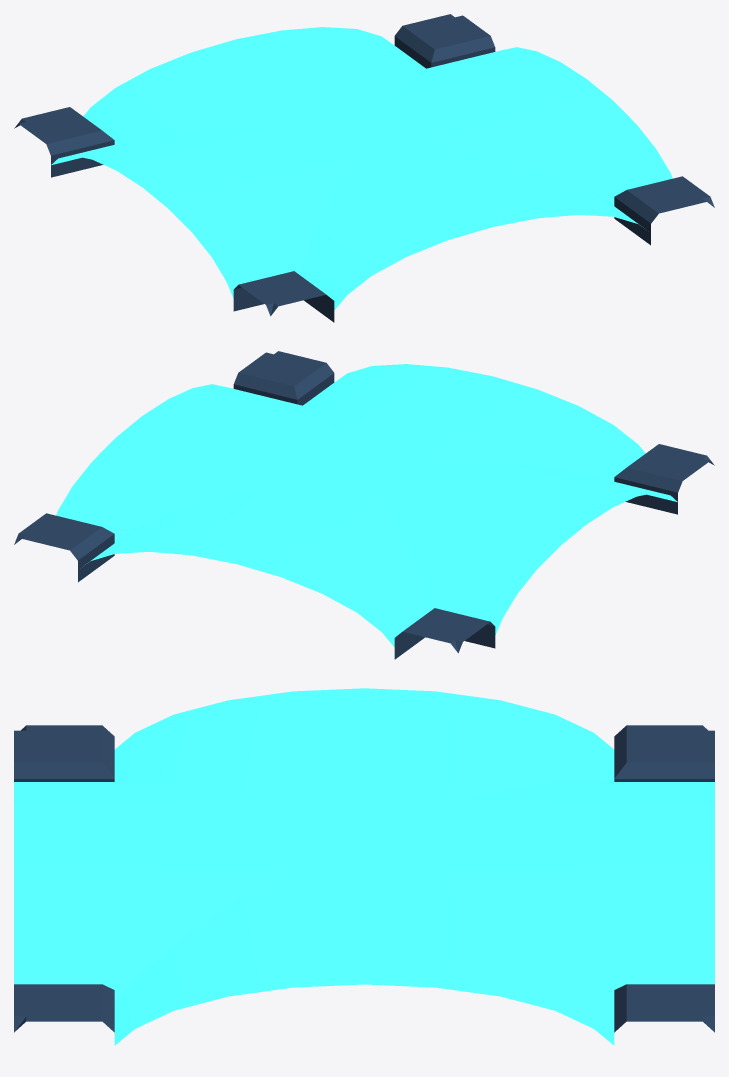
Rendered from Light_Trim_01_SquareShortCrossX.fbx.
3 views of the same model, one above another, from view 1: azimuth 30°, elevation 25°; view 2: azimuth 150°, elevation 25°; view 3: azimuth 270°, elevation 25° (orthographic). The views are drawn at different scales.
Visible parts, largest first — view 1: Light_Trim_01_SquareShortCrossX.001; view 2: Light_Trim_01_SquareShortCrossX.001; view 3: Light_Trim_01_SquareShortCrossX.001.
Boxes of the visible parts, box(x1,y1,x2,y2) form: Light_Trim_01_SquareShortCrossX.001: box(14, 14, 714, 322); Light_Trim_01_SquareShortCrossX.001: box(14, 351, 714, 659); Light_Trim_01_SquareShortCrossX.001: box(14, 688, 714, 1045).
Bounding box in the file's own units: 0.1 × 0.0123 × 0.1.
